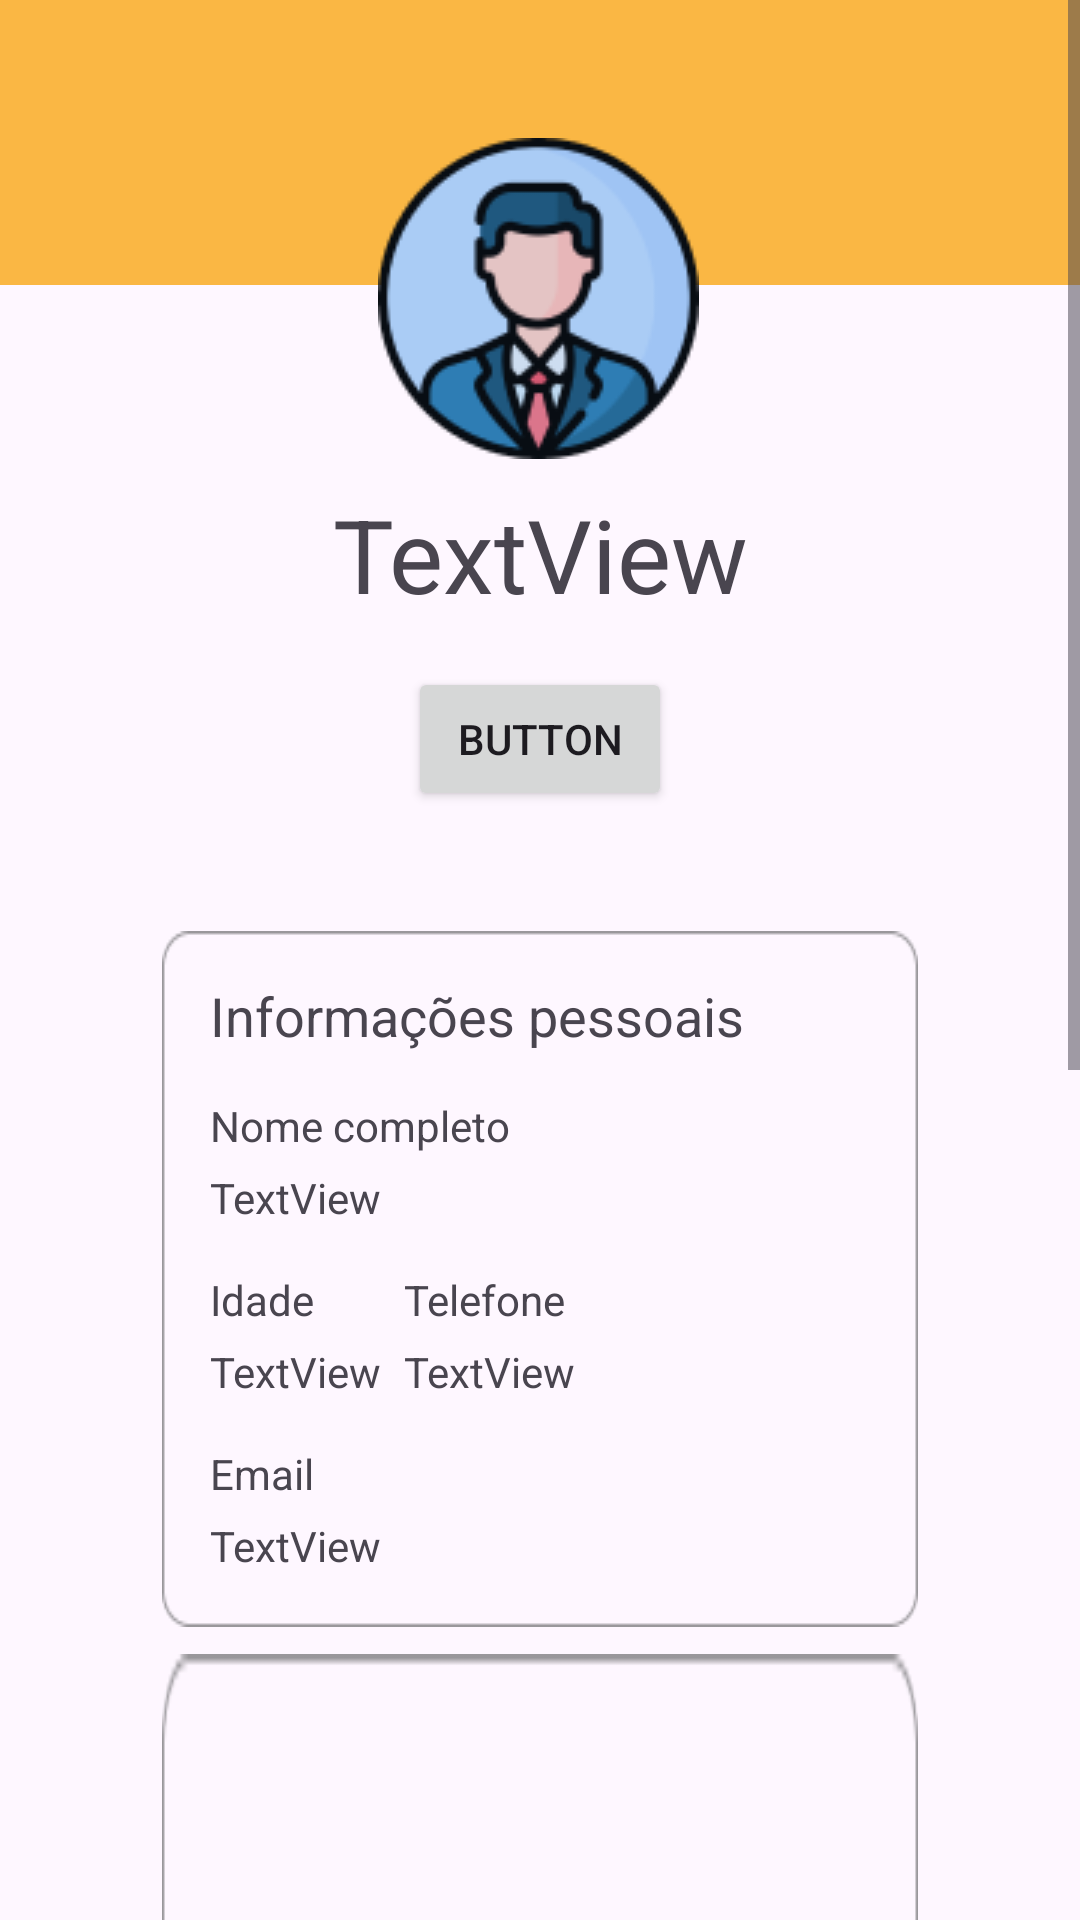

Icons on this 1080×1920 Android screen, each with the point to tap as [x,y]:
fotofihlo: [538,298]
